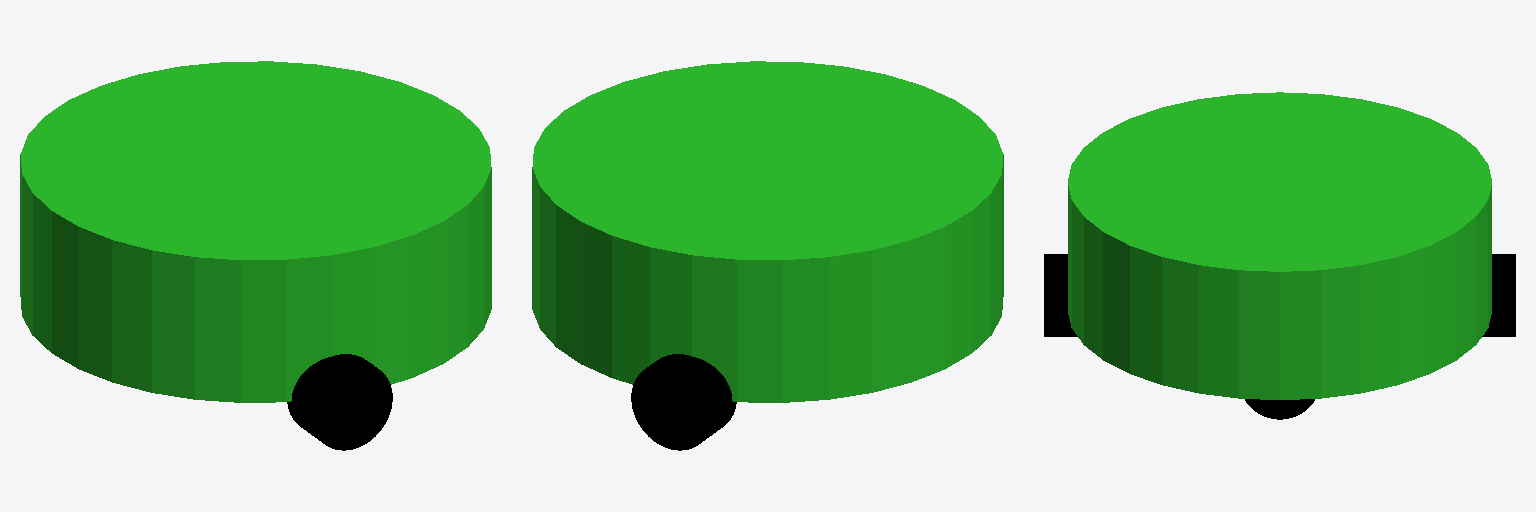
URDF robot description (dynobot):
<?xml version="1.0" ?>
<!-- =================================================================================== -->
<!-- |    This document was autogenerated by xacro from src/dynobot/dynobot_description/urdf/dynobot.xacro | -->
<!-- |    EDITING THIS FILE BY HAND IS NOT RECOMMENDED                                 | -->
<!-- =================================================================================== -->
<robot name="dynobot">
  <material name="dyno_green">
    <color rgba="0.2 0.8 0.2 1.0"/>
  </material>
  <material name="white">
    <color rgba="1 1 1 1"/>
  </material>
  <material name="orange">
    <color rgba="1 0.3 0.1 1"/>
  </material>
  <material name="blue">
    <color rgba="0.2 0.2 1 1"/>
  </material>
  <material name="black">
    <color rgba="0 0 0 1"/>
  </material>
  <material name="dark_grey">
    <color rgba="0.2 0.2 0.2 1.0"/>
  </material>
  <!-- Specify some standard inertial calculations
    https://en.wikipedia.org/wiki/List_of_moments_of_inertia -->
  <!-- These make use of xacro's mathematical functionality -->
  <gazebo reference="chassis_link">
    <material>Gazebo/DarkGray</material>
  </gazebo>
  <gazebo reference="caster_wheel">
    <material>Gazebo/Black</material>
    <mu1>0.001</mu1>
    <mu2>0.001</mu2>
  </gazebo>
  <gazebo>
    <plugin filename="libgazebo_ros_diff_drive.so" name="diff_drive">
      <!-- Wheel Information -->
      <left_joint>left_wheel_joint</left_joint>
      <right_joint>right_wheel_joint</right_joint>
      <wheel_separation>0.6</wheel_separation>
      <wheel_diameter>0.059*2</wheel_diameter>
      <!-- Limits -->
      <max_wheel_torque>200</max_wheel_torque>
      <max_wheel_acceleration>5.0</max_wheel_acceleration>
      <!-- Outputs -->
      <odometry_frame>odom</odometry_frame>
      <robot_base_frame>base_link</robot_base_frame>
      <publish_odom>true</publish_odom>
      <publish_odom_tf>true</publish_odom_tf>
      <publish_wheel_tf>true</publish_wheel_tf>
    </plugin>
  </gazebo>
  <plugin filename="libgazebo_ros_joint_state_publisher.so" name="gazebo_ros_joint_state_publisher">
    <update_rate>20.0</update_rate>
    <joint_name>left_wheel_joint</joint_name>
    <joint_name>right_wheel_joint</joint_name>
  </plugin>
  <!-- Main base link -->
  <link name="base_link">

  </link>
  <joint name="chassis_joint" type="fixed">
    <parent link="base_link"/>
    <child link="chassis_link"/>
    <origin rpy="0 0 0" xyz="0 0 0"/>
  </joint>
  <!-- Base link (simple cylinder turtle body) -->
  <link name="chassis_link">
    <visual>
      <geometry>
        <cylinder length="0.2" radius="0.3"/>
      </geometry>
      <material name="dyno_green"/>
      <origin rpy="0 0 0" xyz="0 0 0.1"/>
    </visual>
    <collision>
      <geometry>
        <cylinder length="0.2" radius="0.3"/>
      </geometry>
      <origin rpy="0 0 0" xyz="0 0 0.1"/>
    </collision>
    <inertial>
      <origin rpy="0 0 0" xyz="0 0 0"/>
      <mass value="5.0"/>
      <inertia ixx="0.12916666666666662" ixy="0.0" ixz="0.0" iyy="0.12916666666666662" iyz="0.0" izz="0.22499999999999998"/>
    </inertial>
  </link>
  <!-- Caster Wheel -->
  <joint name="caster_wheel_joint" type="fixed">
    <parent link="chassis_link"/>
    <child link="caster_wheel"/>
    <origin rpy="0 0 0" xyz="0.22499999999999998 0 0"/>
  </joint>
  <link name="caster_wheel">
    <visual>
      <geometry>
        <sphere radius="0.059"/>
      </geometry>
      <material name="black"/>
      <origin rpy="0 0 0" xyz="0 0 0"/>
    </visual>
    <collision>
      <geometry>
        <sphere radius="0.059"/>
      </geometry>
      <origin rpy="0 0 0" xyz="0 0 0"/>
    </collision>
    <inertial>
      <origin rpy="0 0 0" xyz="0 0 0"/>
      <mass value="1"/>
      <inertia ixx="0.0013924" ixy="0.0" ixz="0.0" iyy="0.0013924" iyz="0.0" izz="0.0013924"/>
    </inertial>
  </link>
  <link name="left_wheel_link">
    <visual>
      <geometry>
        <cylinder length="0.065" radius="0.059"/>
      </geometry>
      <material name="black"/>
    </visual>
    <collision>
      <origin rpy="0 0 1.5707963267948966" xyz="0 0 0.0325"/>
      <geometry>
        <cylinder length="0.065" radius="0.059"/>
      </geometry>
    </collision>
    <inertial>
      <origin rpy="0 0 0" xyz="0 0 0"/>
      <mass value="0.1"/>
      <inertia ixx="0.00012223333333333334" ixy="0.0" ixz="0.0" iyy="0.00012223333333333334" iyz="0.0" izz="0.00017405"/>
    </inertial>
  </link>
  <joint name="left_wheel_joint" type="continuous">
    <origin rpy="-1.5707963267948966 0.0 0.0" xyz="-0.05 0.3 0.0"/>
    <parent link="base_link"/>
    <child link="left_wheel_link"/>
    <axis xyz="0.0 0.0 1.0"/>
  </joint>
  <gazebo reference="left_wheel_link">
    <material>Gazebo/Orange</material>
    <self_collide>true</self_collide>
    <!-- <mu1>0.2</mu1>
      <mu2>0.5</mu2> -->
  </gazebo>
  <link name="right_wheel_link">
    <visual>
      <geometry>
        <cylinder length="0.065" radius="0.059"/>
      </geometry>
      <material name="black"/>
    </visual>
    <collision>
      <origin rpy="0 0 1.5707963267948966" xyz="0 0 -0.0325"/>
      <geometry>
        <cylinder length="0.065" radius="0.059"/>
      </geometry>
    </collision>
    <inertial>
      <origin rpy="0 0 0" xyz="0 0 0"/>
      <mass value="0.1"/>
      <inertia ixx="0.00012223333333333334" ixy="0.0" ixz="0.0" iyy="0.00012223333333333334" iyz="0.0" izz="0.00017405"/>
    </inertial>
  </link>
  <joint name="right_wheel_joint" type="continuous">
    <origin rpy="-1.5707963267948966 0.0 0.0" xyz="-0.05 -0.3 0.0"/>
    <parent link="base_link"/>
    <child link="right_wheel_link"/>
    <axis xyz="0.0 0.0 1.0"/>
  </joint>
  <gazebo reference="right_wheel_link">
    <material>Gazebo/Orange</material>
    <self_collide>true</self_collide>
    <!-- <mu1>0.2</mu1>
      <mu2>0.5</mu2> -->
  </gazebo>
  <link name="laser_link">
    <inertial>
      <mass value="1.1"/>
      <origin xyz="0 0 0"/>
      <inertia ixx="0.00307156543804" ixy="0.0" ixz="0.0" iyy="0.0031284904152700005" iyz="0.0" izz="0.00196432421427"/>
    </inertial>
  </link>
  <gazebo reference="laser_link">
    <turnGravityOff>false</turnGravityOff>
    <sensor name="laser_link" type="ray">
      <pose>0 0 0 0 0 0</pose>
      <visualize>false</visualize>
      <update_rate>10</update_rate>
      <ray>
        <scan>
          <horizontal>
            <samples>720</samples>
            <resolution>1</resolution>
            <min_angle>-3.141592653589793</min_angle>
            <max_angle>3.141592653589793</max_angle>
          </horizontal>
        </scan>
        <range>
          <min>0.06</min>
          <max>100.0</max>
          <resolution>0.01</resolution>
        </range>
        <noise>
          <type>gaussian</type>
          <mean>0.0</mean>
          <stddev>0.001</stddev>
        </noise>
      </ray>
      <plugin filename="libgazebo_ros_ray_sensor.so" name="gazebo_ros_laser">
        <ros>
          <remapping>~/out:=/scan</remapping>
          <qos>
            <topic name="/scan">
              <publisher>
                <reliability>best_effort</reliability>
                <durability>volatile</durability>
              </publisher>
            </topic>
          </qos>
        </ros>
        <frame_name>laser_link</frame_name>
        <robot_namespace>/</robot_namespace>
        <output_type>sensor_msgs/LaserScan</output_type>
      </plugin>
    </sensor>
  </gazebo>
  <joint name="laser_mount_joint" type="fixed">
    <origin rpy="0 0 0" xyz="0 0 0.2"/>
    <parent link="chassis_link"/>
    <child link="laser_mount"/>
  </joint>
  <link name="laser_mount">
    <visual>
      <origin rpy="0 0 0" xyz="0 0 0"/>
      <geometry>
        <!-- Origin of this mesh is the base of the bracket. -->
        <mesh filename="file:///home/ros/install/share/dynobot_description/meshes/hokuyo_ust10.stl"/>
      </geometry>
      <material name="dark_grey"/>
    </visual>
  </link>
  <joint name="laser_joint" type="fixed">
    <!-- This offset is from the base of the bracket to the LIDAR's focal point. -->
    <origin rpy="0 0 0" xyz="0 0 0.0474"/>
    <parent link="laser_mount"/>
    <child link="laser_link"/>
  </joint>
  <gazebo reference="laser_mount">
    <material>Gazebo/DarkGrey</material>
  </gazebo>
</robot>

--- What the picture shows (computed from the rendered views, not written in the file) ---
Views: 3 orthographic renders of the robot side by side, from view 1: azimuth 30°, elevation 25°; view 2: azimuth 150°, elevation 25°; view 3: azimuth 270°, elevation 25°.
Model dynobot with 7 links and 6 joints (2 continuous, 4 fixed), rooted at base_link, posed all joints at 0.
Links seen in each view (by area): view 1: chassis_link, right_wheel_link; view 2: chassis_link, left_wheel_link; view 3: chassis_link, left_wheel_link, right_wheel_link, caster_wheel.
Link boxes in pixels (x1,y1,x2,y2): chassis_link: (20,61,491,402); right_wheel_link: (287,354,392,450); chassis_link: (532,61,1003,402); left_wheel_link: (631,354,736,450); chassis_link: (1068,92,1491,399); left_wheel_link: (1482,254,1515,336); right_wheel_link: (1044,254,1077,336); caster_wheel: (1245,399,1314,419).
Size in the robot's own frame: 0.6 by 0.665 by 0.259 metres.
Geometry: only primitive shapes (box / cylinder / sphere) drawn; not drawn: 1 mesh visual (reference in a form the renderer does not follow).
